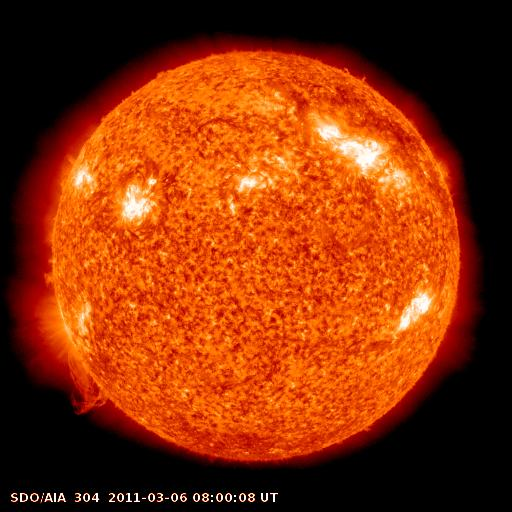prominence: (56, 346, 128, 424), (33, 247, 68, 297)
